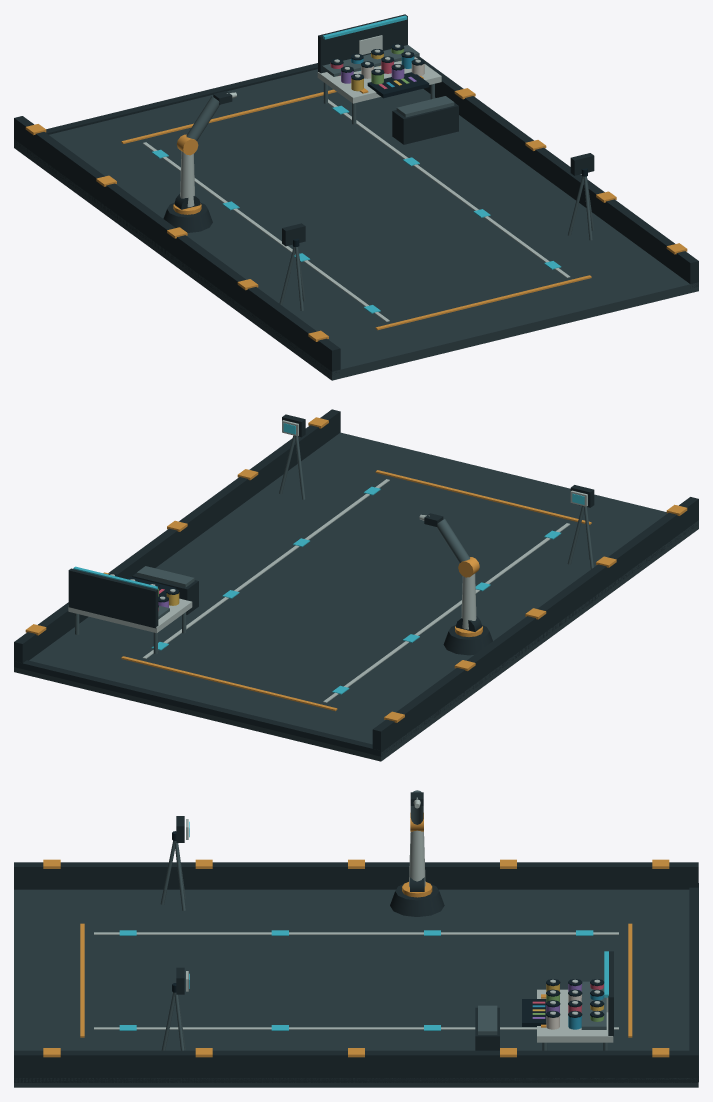
File: mork_garage_d0_lod0.glb
3 renders of one model, top to bottom at view 1: azimuth 30°, elevation 25°; view 2: azimuth 150°, elevation 25°; view 3: azimuth 270°, elevation 25°, orthographic. The views are drawn at different scales.
Visible parts, largest first — view 1: GARAGE_STATIC_BODY, ARM_UPPER_LINK, ARM_FORE_LINK; view 2: GARAGE_STATIC_BODY, ARM_UPPER_LINK, ARM_FORE_LINK; view 3: GARAGE_STATIC_BODY, ARM_UPPER_LINK.
Boxes of the visible parts, x1,y1,x2,y2 form: GARAGE_STATIC_BODY: (14, 14, 698, 380); ARM_UPPER_LINK: (174, 151, 200, 209); ARM_FORE_LINK: (176, 96, 219, 155); GARAGE_STATIC_BODY: (14, 409, 698, 761); ARM_UPPER_LINK: (456, 573, 481, 631); ARM_FORE_LINK: (436, 518, 479, 577); GARAGE_STATIC_BODY: (14, 816, 698, 1087); ARM_UPPER_LINK: (409, 830, 425, 891).
Size of what is drawn, in the model's own units: 12.14 by 4.07 by 18.01.
